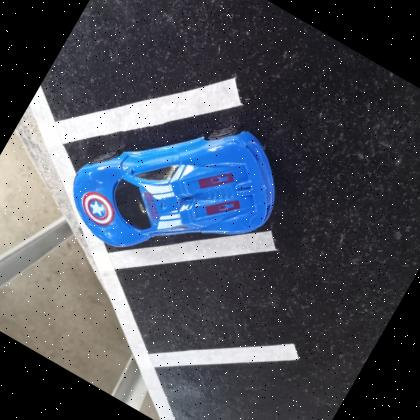Car: (71, 129, 275, 247)
